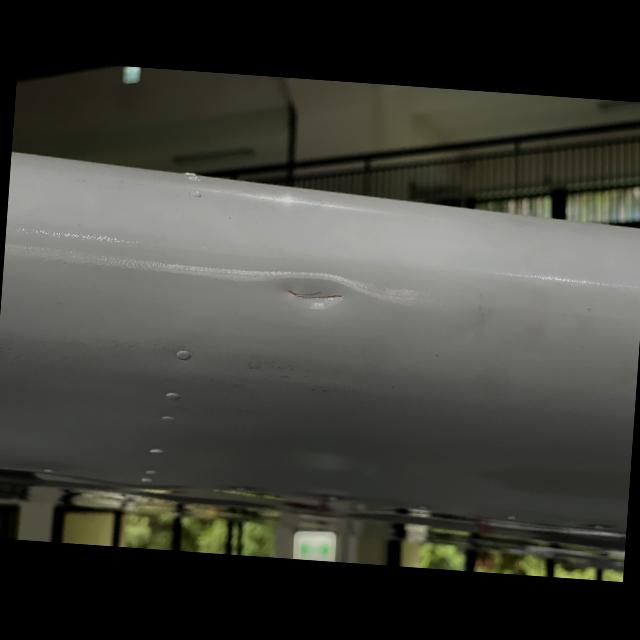dent: (248, 266, 386, 316)
